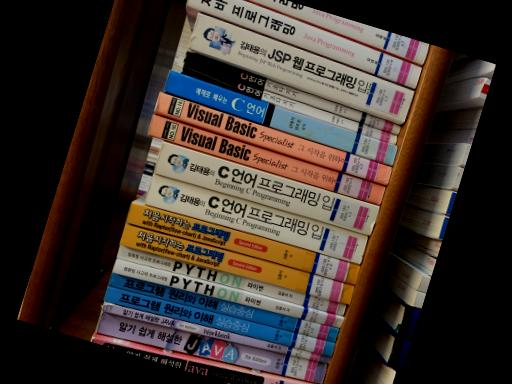book-spine: (188, 11, 414, 121), (164, 69, 397, 165), (154, 90, 392, 183), (148, 113, 385, 204), (154, 141, 379, 235), (186, 0, 421, 88), (145, 173, 368, 263), (125, 203, 360, 284), (119, 224, 354, 304), (183, 51, 400, 133), (182, 62, 396, 143), (95, 310, 326, 383), (117, 244, 346, 315), (104, 286, 334, 356), (108, 272, 339, 341), (112, 259, 345, 327), (102, 301, 330, 362), (254, 0, 429, 64), (90, 337, 308, 384)
